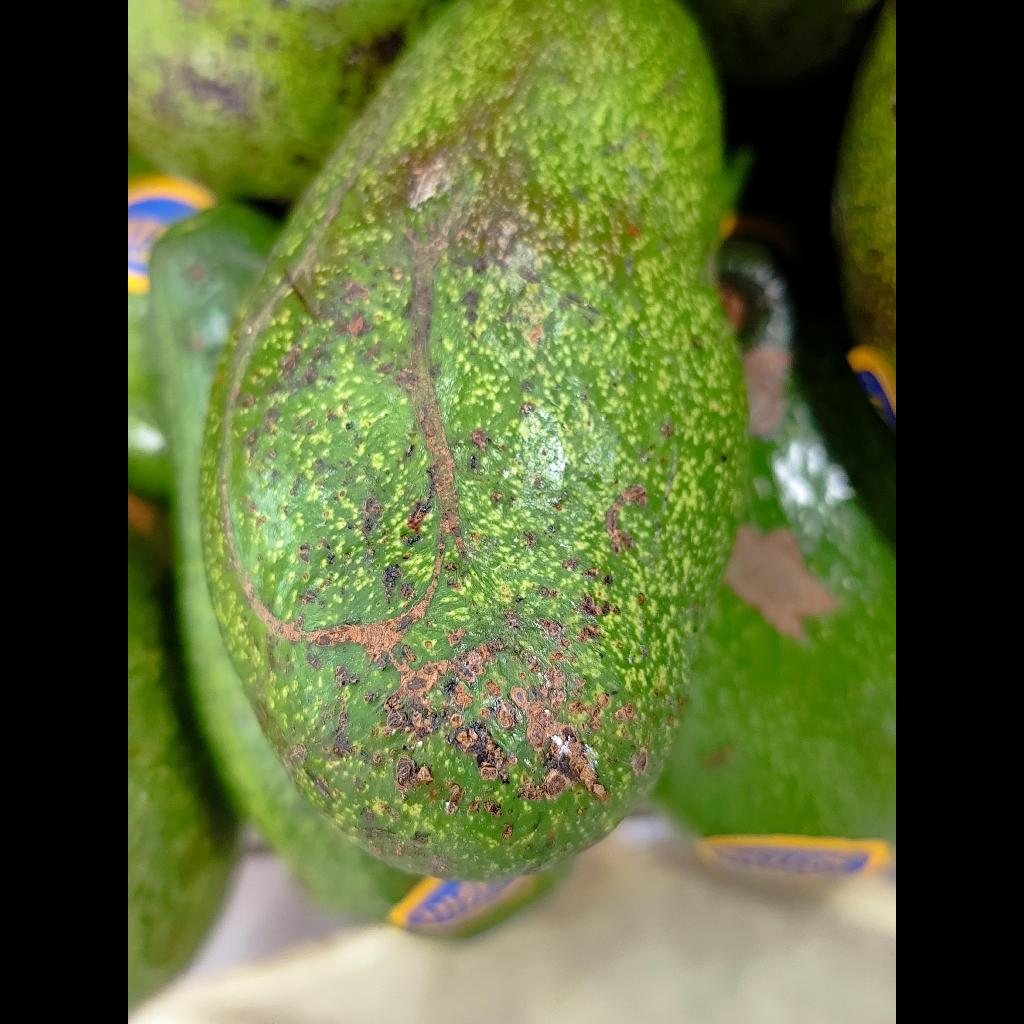rona: (200, 0, 746, 880)
